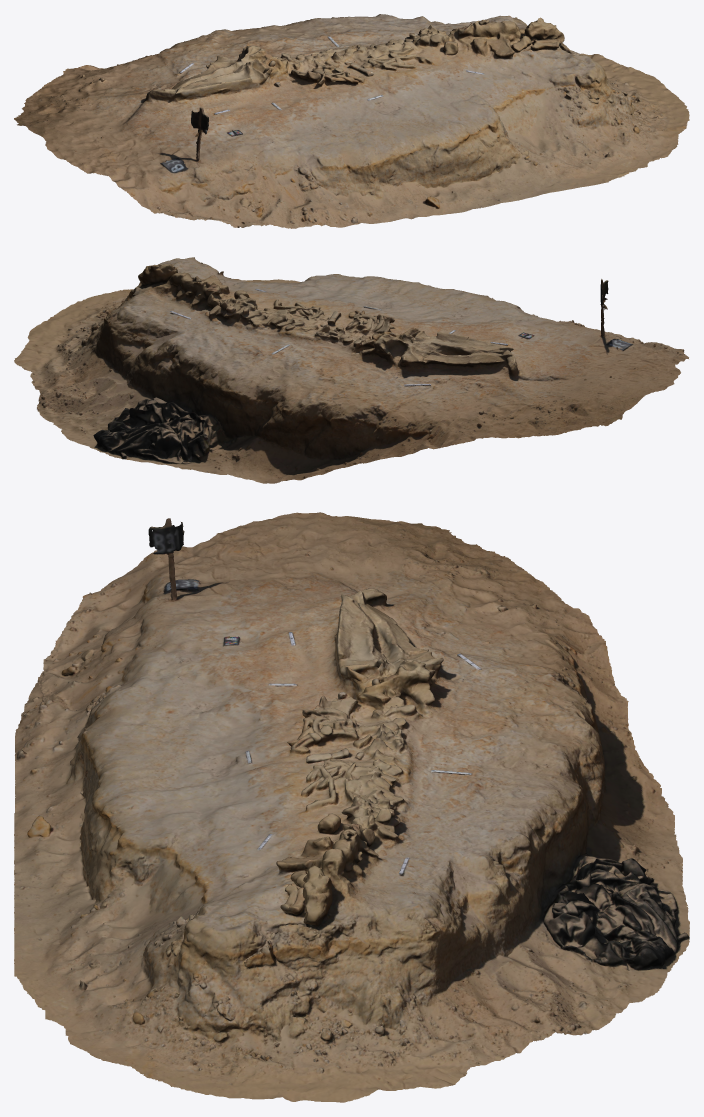
3 renders of one model, top to bottom at view 1: azimuth 30°, elevation 25°; view 2: azimuth 150°, elevation 25°; view 3: azimuth 270°, elevation 25°, orthographic. The views are drawn at different scales.
Bounding box in the file's own units: 8978 × 1872 × 5576.
1 material, 1 textured.
